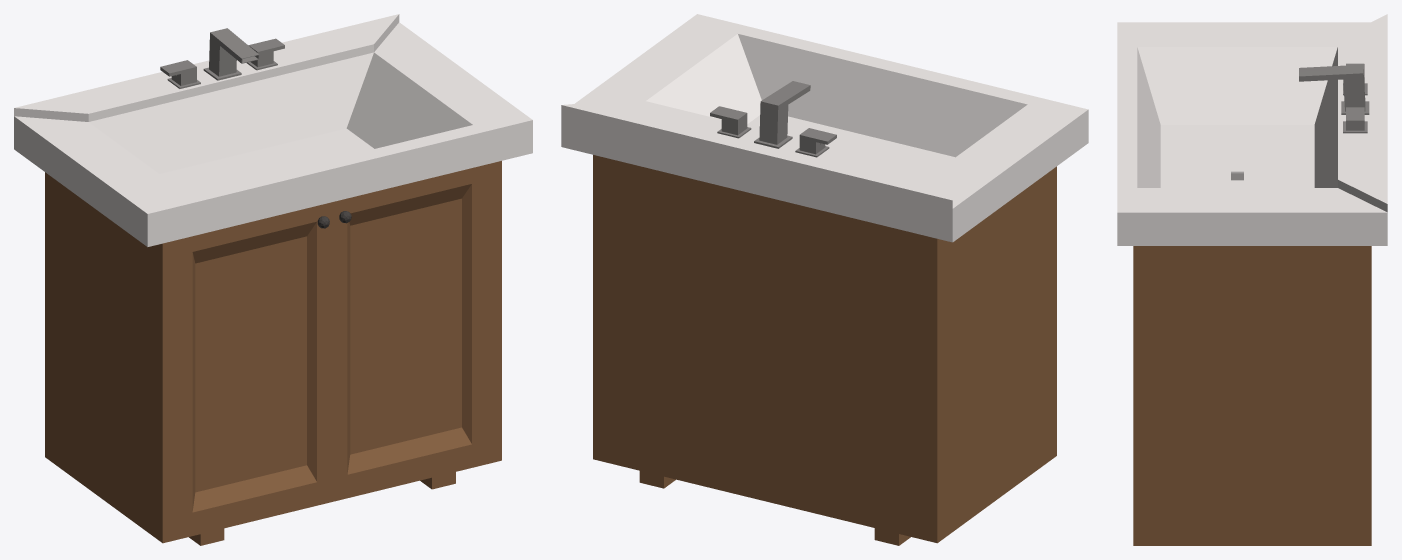
Rendered from Shower Table_02.fbx.
3 views of the same model, side by side, from view 1: azimuth 30°, elevation 25°; view 2: azimuth 150°, elevation 25°; view 3: azimuth 270°, elevation 25° (orthographic).
Visible parts, largest first — view 1: Shower Table_02; view 2: Shower Table_02; view 3: Shower Table_02.
Part boxes in pixels (x1,y1,x2,y2): Shower Table_02: (14, 14, 532, 545); Shower Table_02: (561, 14, 1088, 545); Shower Table_02: (1117, 14, 1387, 545).
Bounding box in the file's own units: 101 × 101 × 60.5.
